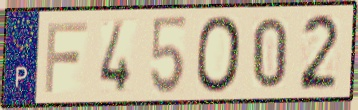0: (250, 15, 292, 91)
2: (299, 11, 342, 94)
4: (96, 17, 136, 96)
5: (148, 13, 190, 97)
F: (42, 19, 90, 96)
O: (195, 13, 244, 96)
